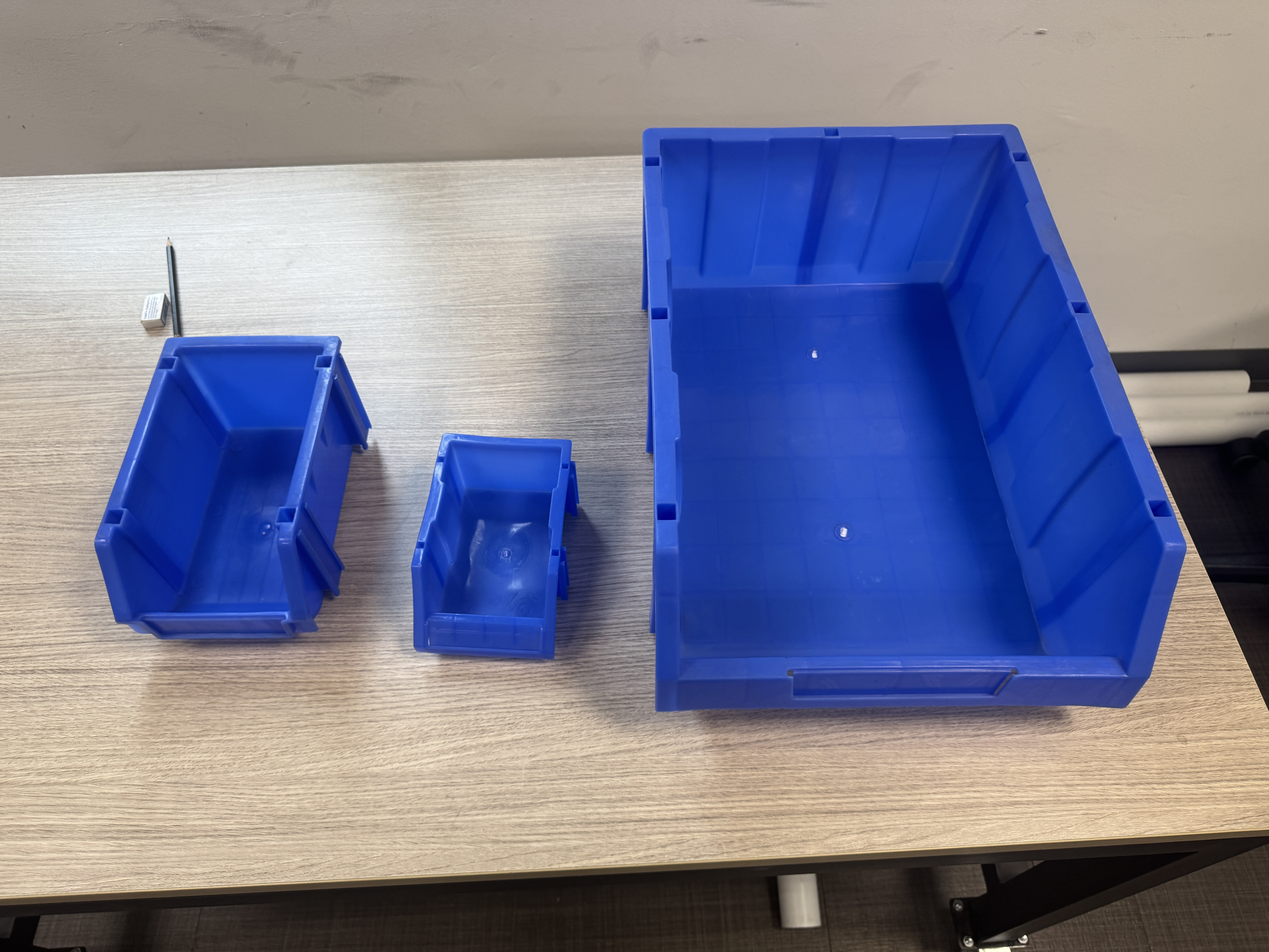Bin Boundary: (666, 124, 1165, 665), (109, 348, 324, 616), (420, 441, 559, 617)
